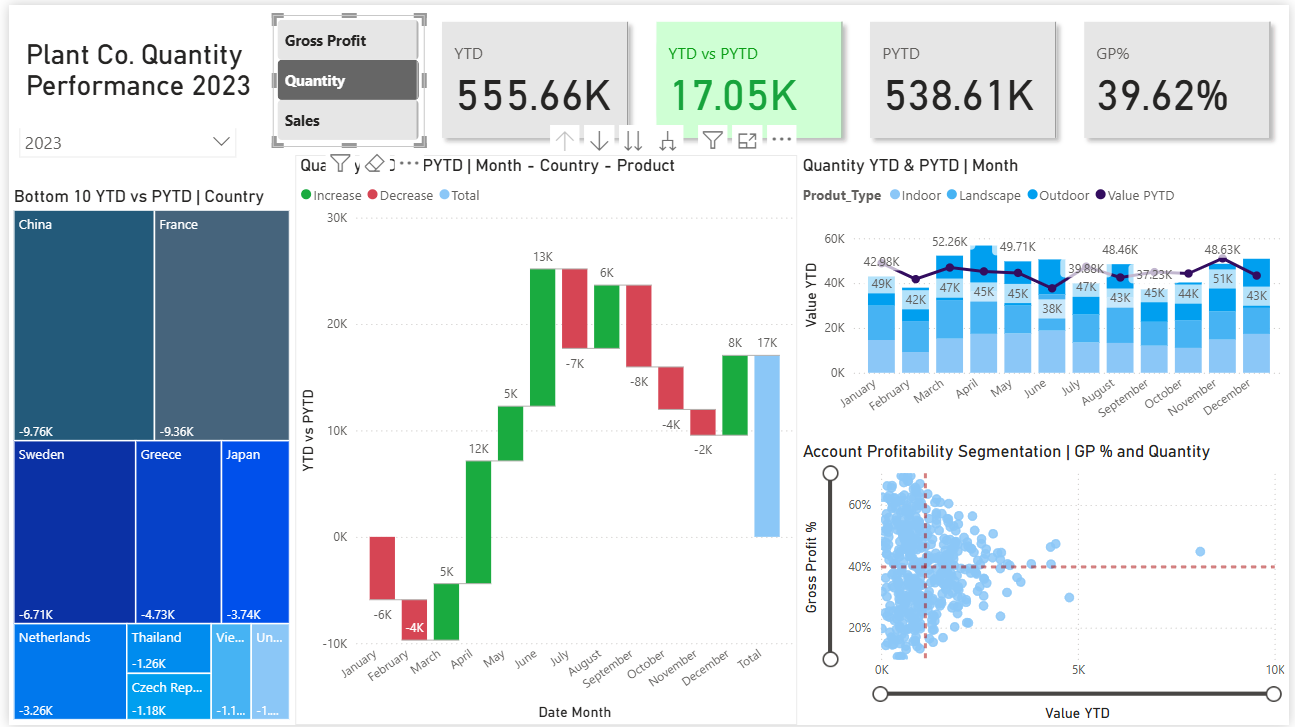

The page's visual inventory and layout, read from the dashboard file:
{"tool":"powerbi","page":{"name":"Performance Report","canvas":[1280,720],"ordinal":0},"visuals":[{"type":"cardVisual","fields":{"Data":["_Measures.Switch_YTD","_Measures.YTD vs PYTD","_Measures.Switch_PYTD","_Measures.GP%"]},"box":[415.7,0,864.3,150],"z":0},{"type":"slicer","fields":{"Values":["Dim_Date.Date.Variation.Date Hierarchy.Year"]},"box":[0,110,237.1,71.4],"z":1000},{"type":"advancedSlicerVisual","fields":{"Values":["Slicer_Values.Values"]},"box":[264.3,10,151.4,132.9],"z":2000},{"type":"treemap","title":"Bottom 10 YTD vs PYTD | Country","fields":{"Values":["_Measures.YTD vs PYTD"],"Group":["Dim_Account.country"]},"box":[0,181.4,285.7,538.6],"z":3000},{"type":"waterfallChart","fields":{"Y":["_Measures.YTD vs PYTD"],"Category":["Dim_Date.Date.Variation.Date Hierarchy.Month","Dim_Account.country","Dim_Product.Produt_Type","Dim_Product.Product_Name"]},"box":[285.7,150,502.9,570],"z":4000},{"type":"lineStackedColumnComboChart","fields":{"Y":["_Measures.Switch_YTD"],"Category":["Dim_Date.Date.Variation.Date Hierarchy.Quarter","Dim_Date.Date.Variation.Date Hierarchy.Month"],"Y2":["_Measures.Switch_PYTD"],"Series":["Dim_Product.Produt_Type"]},"box":[788.6,150,491.4,285.7],"z":5000},{"type":"scatterChart","fields":{"Y":["_Measures.GP%"],"X":["_Measures.Switch_YTD"],"Category":["Dim_Account.Account"]},"box":[788.6,435.7,491.4,284.3],"z":6000},{"type":"cardVisual","fields":{"Data":["_Measures._Report Title"]},"box":[0,0,264.3,122.9],"z":6001}]}

Visuals, with their boxes in screenshot pixels (x1, y1, x2, y2), scaled from the page's 1280x720 canvas onto the 1295x727 screenshot:
cardVisual - _Measures.Switch_YTD x _Measures.YTD vs PYTD: box(421, 0, 1294, 151)
slicer - Dim_Date.Date.Variation.Date Hierarchy.Year: box(0, 111, 240, 183)
advancedSlicerVisual - Slicer_Values.Values: box(267, 10, 421, 144)
"Bottom 10 YTD vs PYTD | Country" treemap: box(0, 183, 289, 726)
waterfallChart - _Measures.YTD vs PYTD x Dim_Date.Date.Variation.Date Hierarchy.Month: box(289, 151, 798, 726)
lineStackedColumnComboChart - _Measures.Switch_YTD x Dim_Date.Date.Variation.Date Hierarchy.Quarter: box(798, 151, 1294, 440)
scatterChart - _Measures.GP% x _Measures.Switch_YTD: box(798, 440, 1294, 726)
cardVisual - _Measures._Report Title: box(0, 0, 267, 124)
